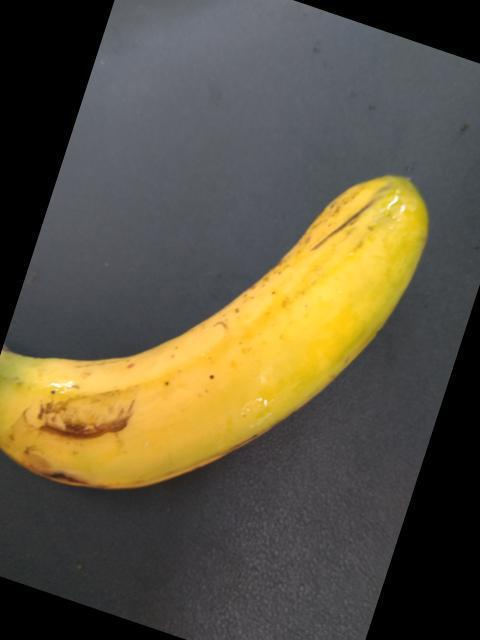ripe: (2, 171, 460, 505)
